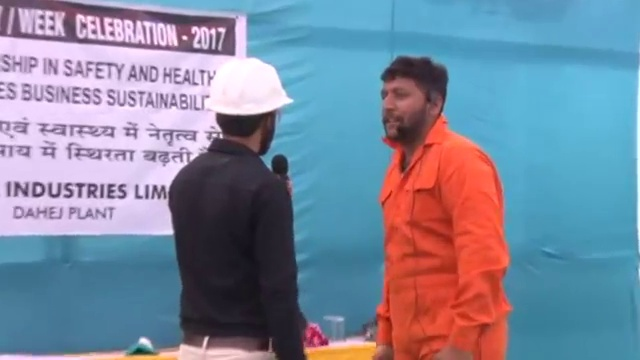helmet: (203, 57, 295, 116)
helmet_off: (380, 55, 449, 144)
helmet_on: (202, 59, 294, 160)
person: (159, 55, 310, 360), (370, 51, 512, 360)
